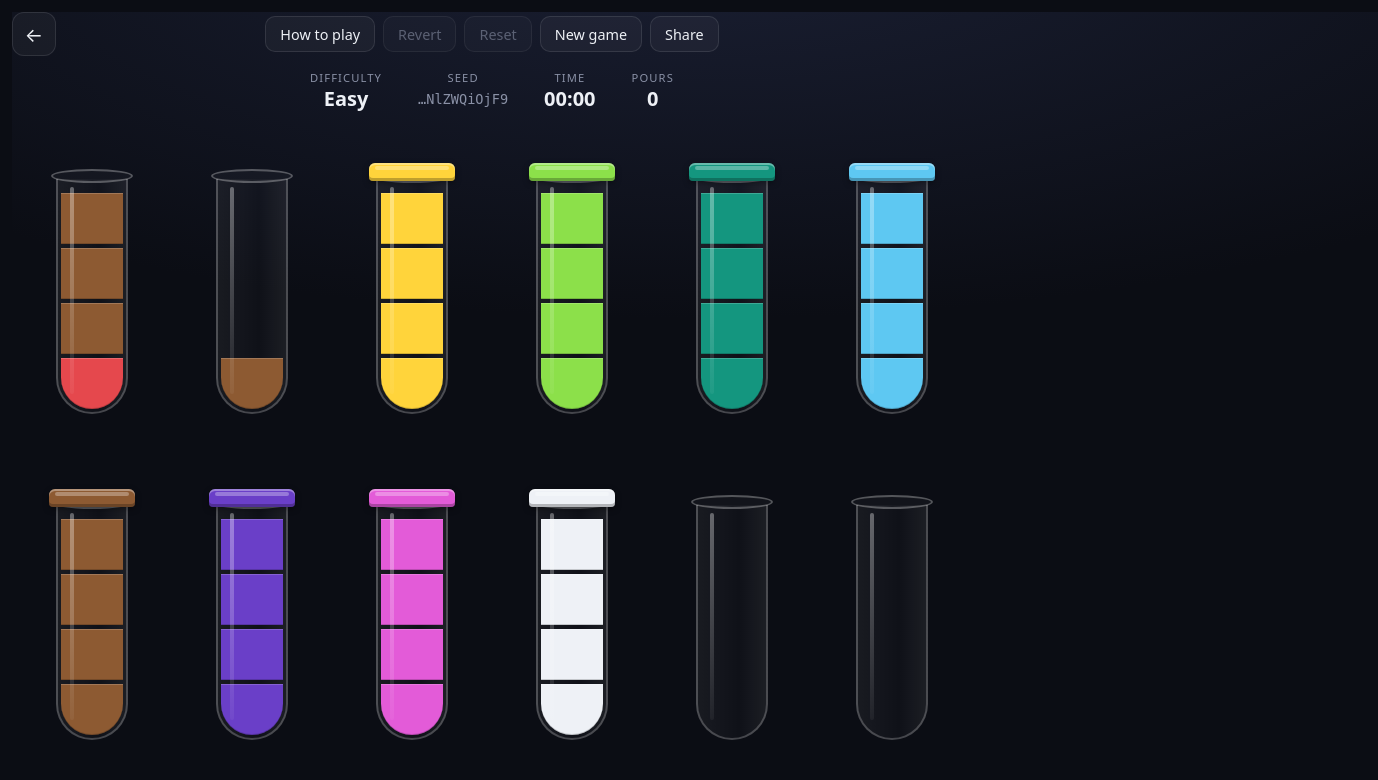
Test: actions › reverts the last pour, which still counts as a pour made
Click the button named "vial" at {"x": 92, "y": 292}, box x1=56 y1=169 x2=128 y2=414
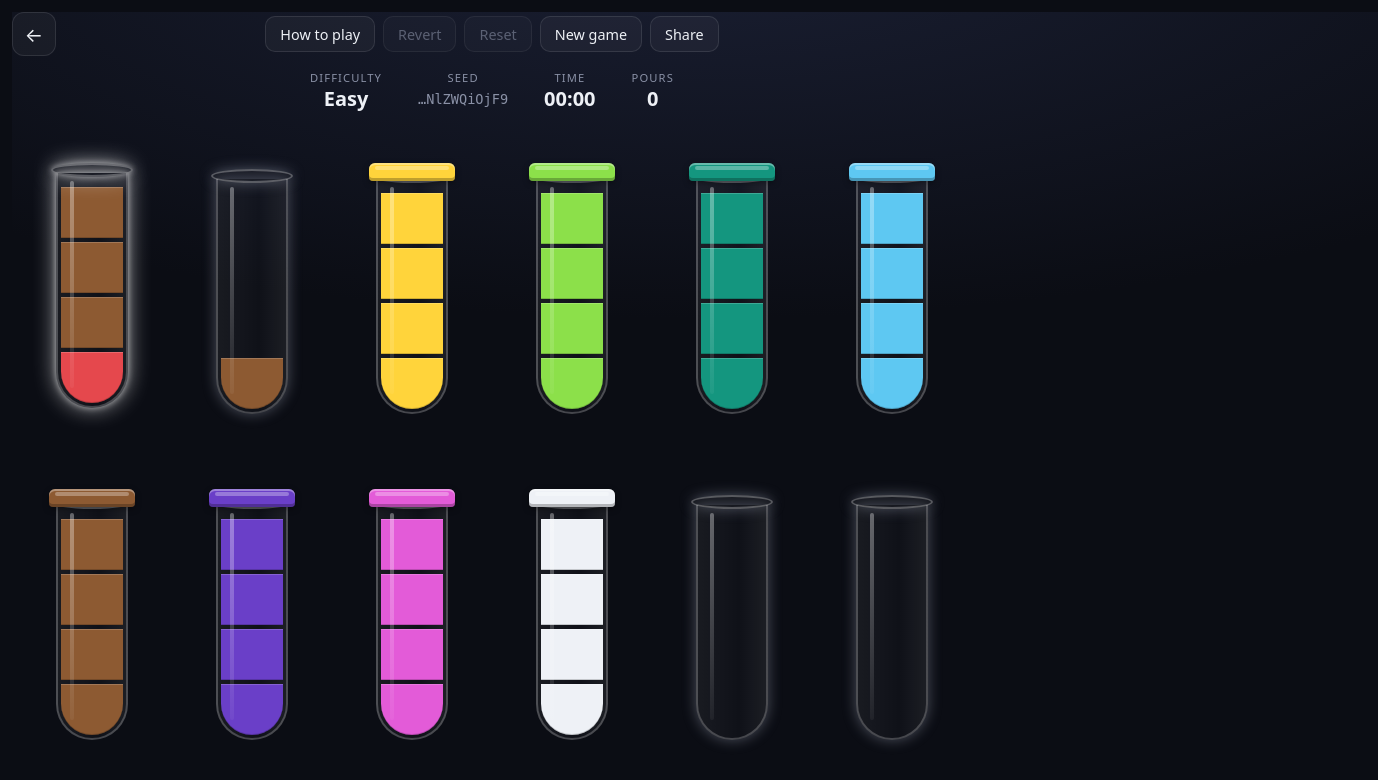
Click the button named "vial" at {"x": 252, "y": 292}, box x1=216 y1=169 x2=288 y2=414
Wait 300 ms
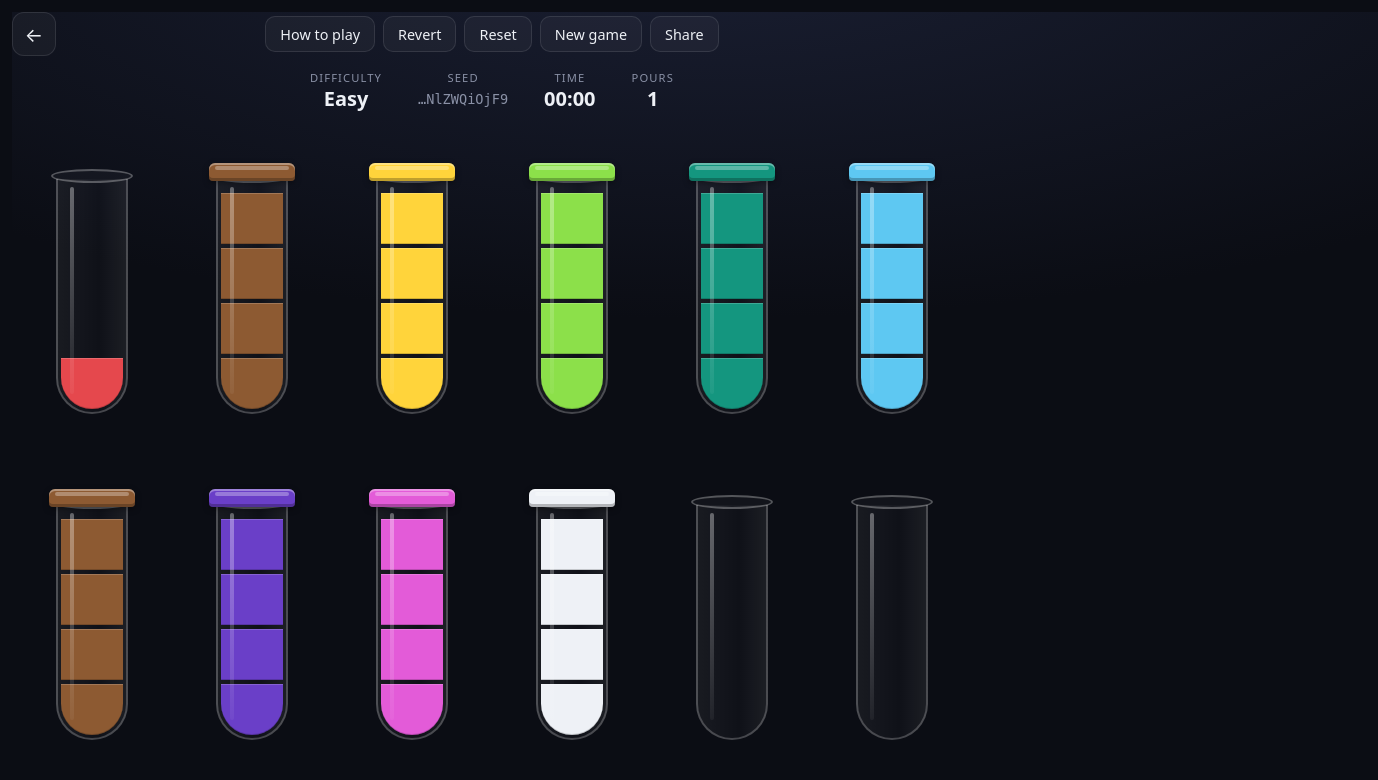
Click the button "Revert" at {"x": 420, "y": 34}, box x1=383 y1=16 x2=456 y2=52
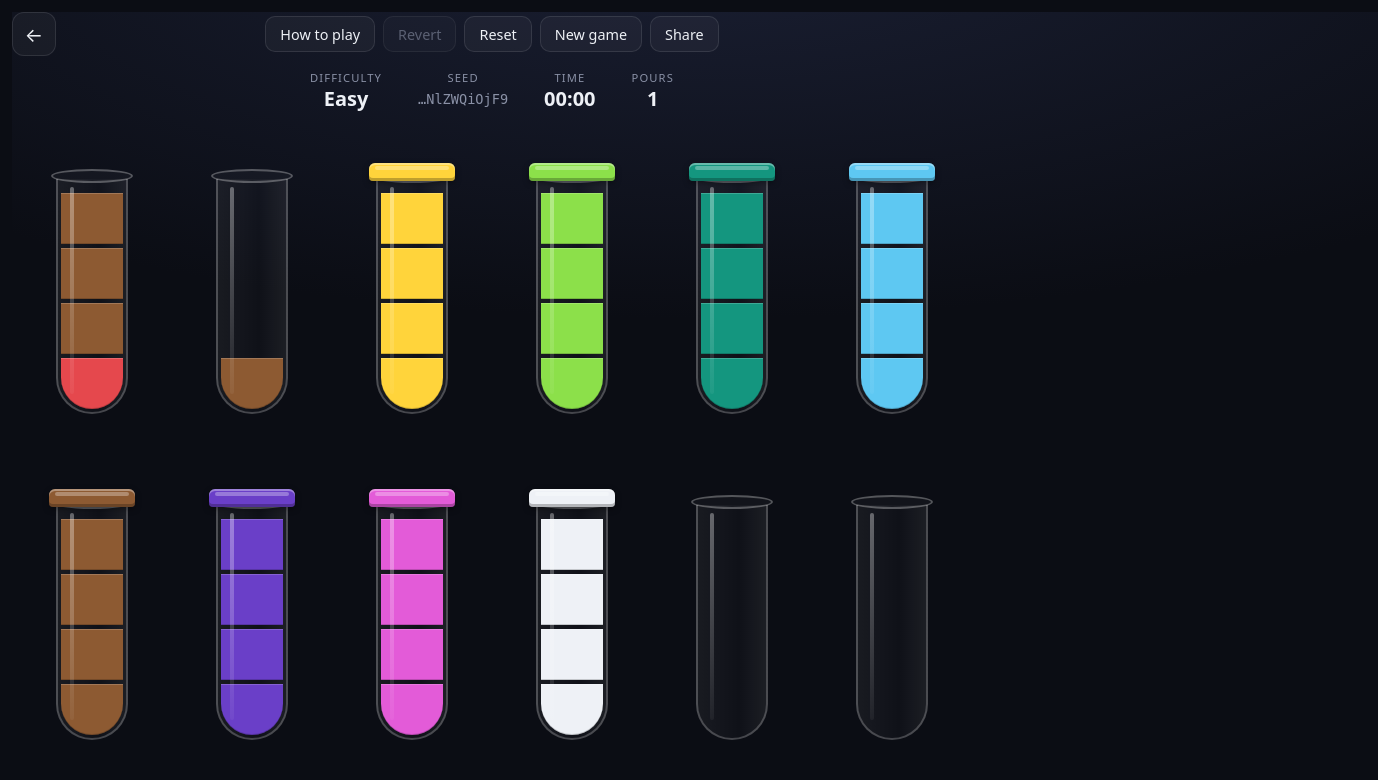
Check: the button "Reset" is enabled, box x1=464 y1=16 x2=532 y2=52
Check: the button "Revert" is disabled, box x1=383 y1=16 x2=456 y2=52
